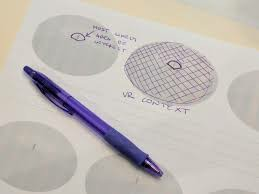pen: (20, 61, 163, 176)
